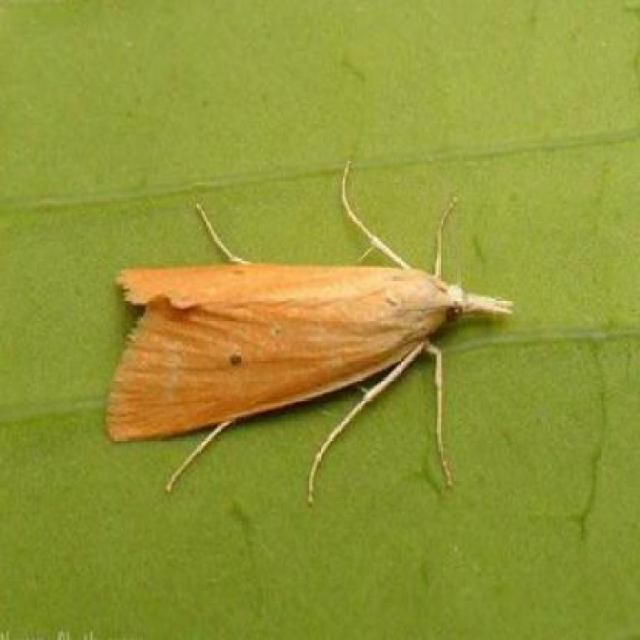stem-borer: (106, 228, 517, 466)
